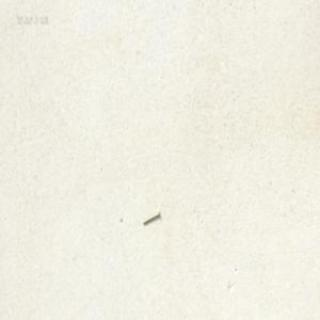Bolttrack_idkeyframe: (141, 210, 160, 224)
